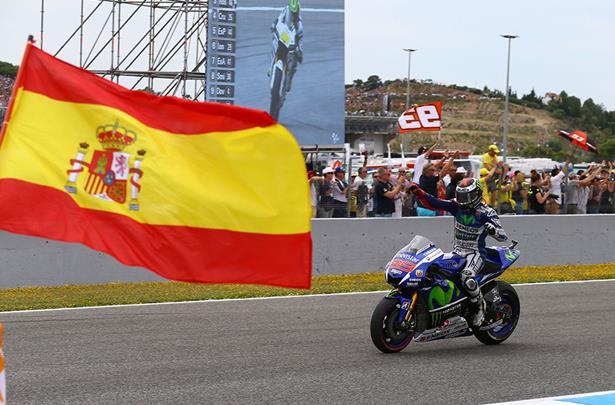Flag: (1, 34, 311, 291)
